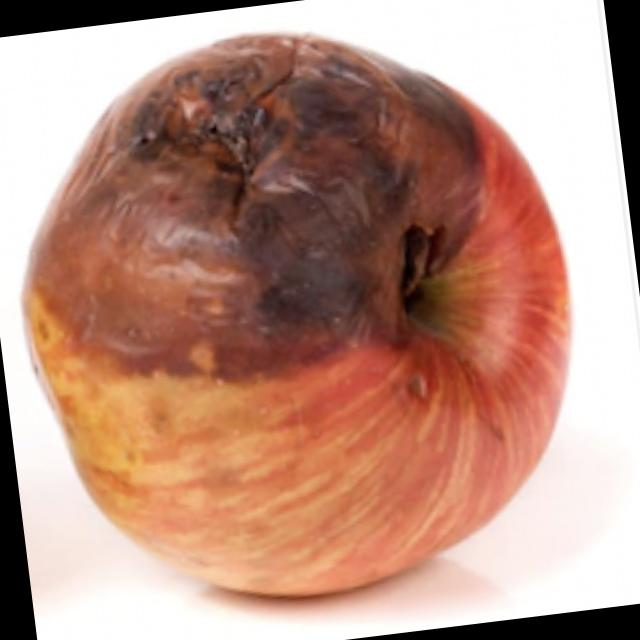rotten_apple: (0, 0, 607, 630)
